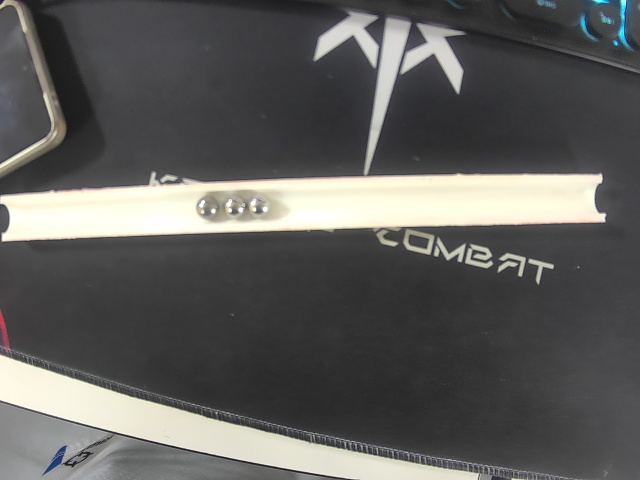steelball: (195, 193, 220, 220), (223, 196, 246, 218), (247, 195, 269, 216)
